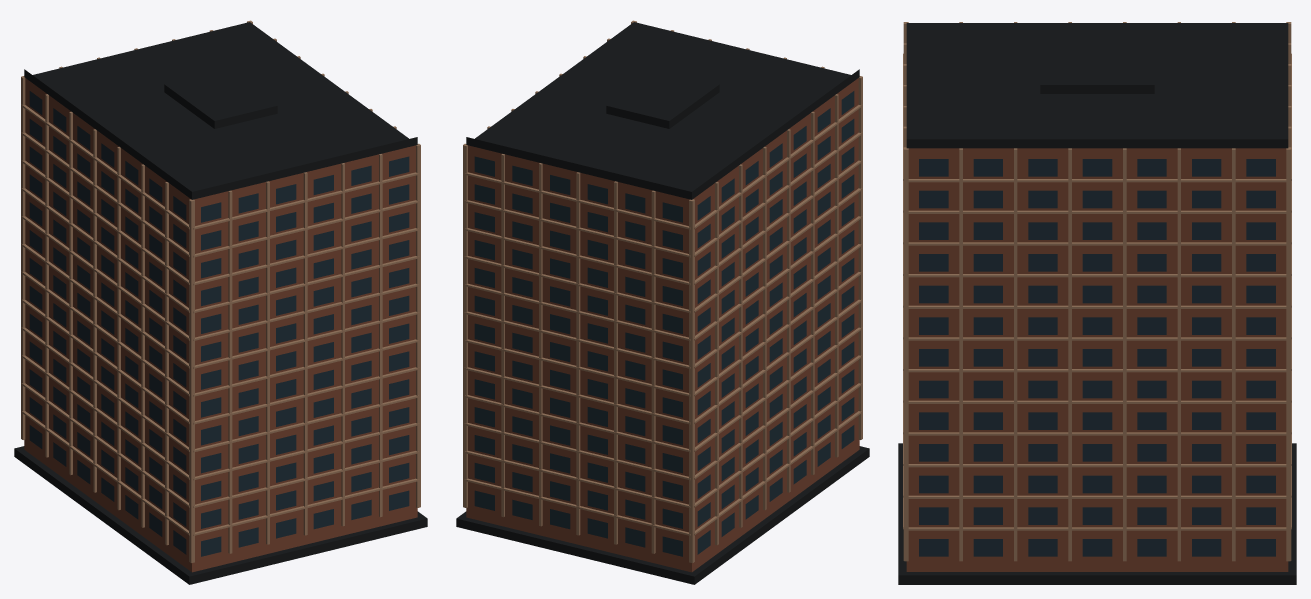
The model's file is office-07.glb.
3 views of the same model, side by side, from view 1: azimuth 30°, elevation 25°; view 2: azimuth 150°, elevation 25°; view 3: azimuth 270°, elevation 25° (orthographic). The views are drawn at different scales.
Parts seen in each view (by area): view 1: brick-midrise; view 2: brick-midrise; view 3: brick-midrise.
Part boxes in pixels (<box>): brick-midrise: <box>14,20,427,584</box>; brick-midrise: <box>456,20,869,584</box>; brick-midrise: <box>898,22,1296,584</box>.
Size of the model in its own units: 34.24 by 54.52 by 43.61.
